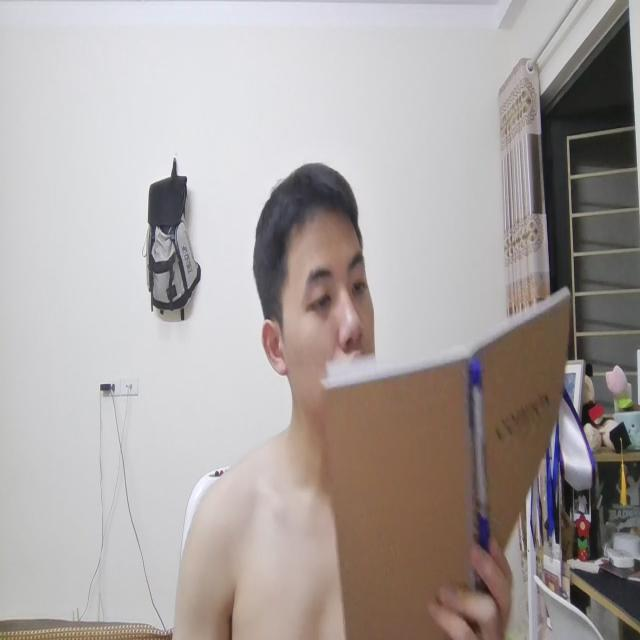book: (325, 292, 561, 638)
student: (248, 154, 384, 382)
